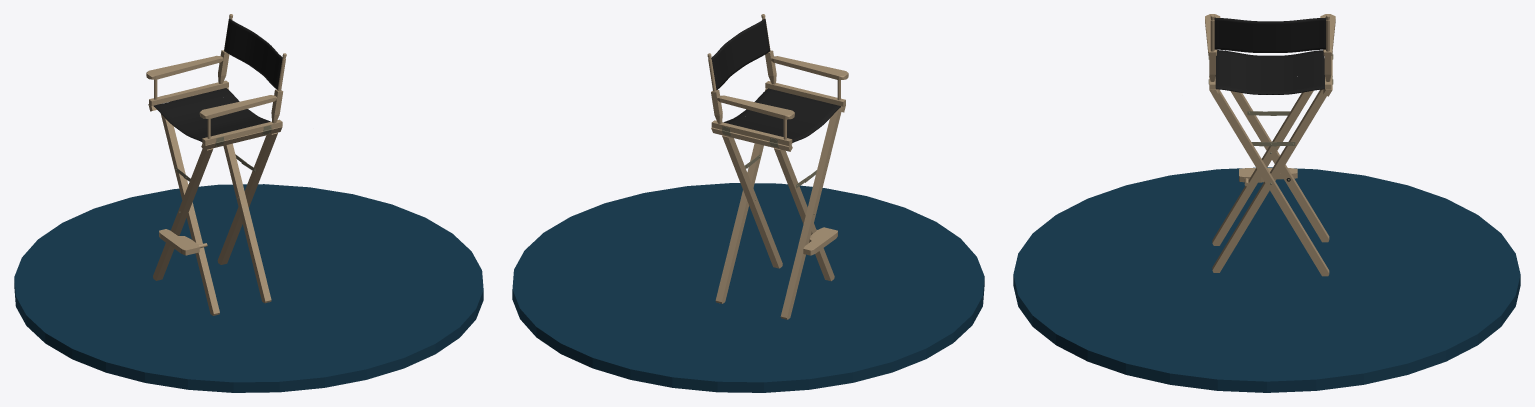
File: directorschair.glb
3 views of the same model, side by side, from view 1: azimuth 30°, elevation 25°; view 2: azimuth 150°, elevation 25°; view 3: azimuth 270°, elevation 25° (orthographic). The views are drawn at different scales.
Visible parts, largest first — view 1: Cylinder.003, Plane, Plane.001, Cube.010, Cube.001, Cube.009, Cube, Circle.004, Circle.002, Cube.012, Cube.018, Cube.003 (+1 smaller); view 2: Cylinder.003, Plane, Cube.009, Plane.001, Cube.001, Cube, Cube.010, Circle.004, Circle.002, Cube.003, Cube.012, Cube.018 (+1 smaller); view 3: Cylinder.003, Plane, Plane.001, Cube, Cube.001, Cube.010, Cube.009.
Boxes of the visible parts, x1,y1,x2,y2 form: Cylinder.003: [14, 184, 483, 392]; Plane: [153, 88, 270, 141]; Plane.001: [224, 18, 282, 89]; Cube.010: [160, 113, 219, 315]; Cube.001: [223, 143, 271, 303]; Cube.009: [153, 148, 212, 280]; Cube: [217, 132, 277, 264]; Circle.004: [146, 55, 223, 79]; Circle.002: [199, 95, 276, 118]; Cube.012: [149, 80, 228, 105]; Cube.018: [159, 229, 199, 255]; Cube.003: [202, 119, 282, 145]; Cylinder.003: [512, 183, 984, 392]; Plane: [723, 88, 840, 142]; Cube.009: [780, 110, 841, 319]; Plane.001: [711, 19, 769, 89]; Cube.001: [722, 135, 782, 268]; Cube: [715, 143, 763, 303]; Cube.010: [774, 148, 834, 281]; Circle.004: [717, 95, 794, 119]; Circle.002: [771, 56, 848, 80]; Cube.003: [765, 81, 845, 106]; Cube.012: [711, 120, 792, 146]; Cube.018: [803, 227, 837, 255]; Cylinder.003: [1013, 167, 1520, 392]; Plane: [1215, 50, 1324, 94]; Plane.001: [1214, 17, 1326, 52]; Cube: [1213, 89, 1329, 276]; Cube.001: [1212, 89, 1326, 272]; Cube.010: [1212, 90, 1313, 245]; Cube.009: [1230, 91, 1329, 242].
Size of the model in its own units: 34.02 by 20.45 by 34.02.
